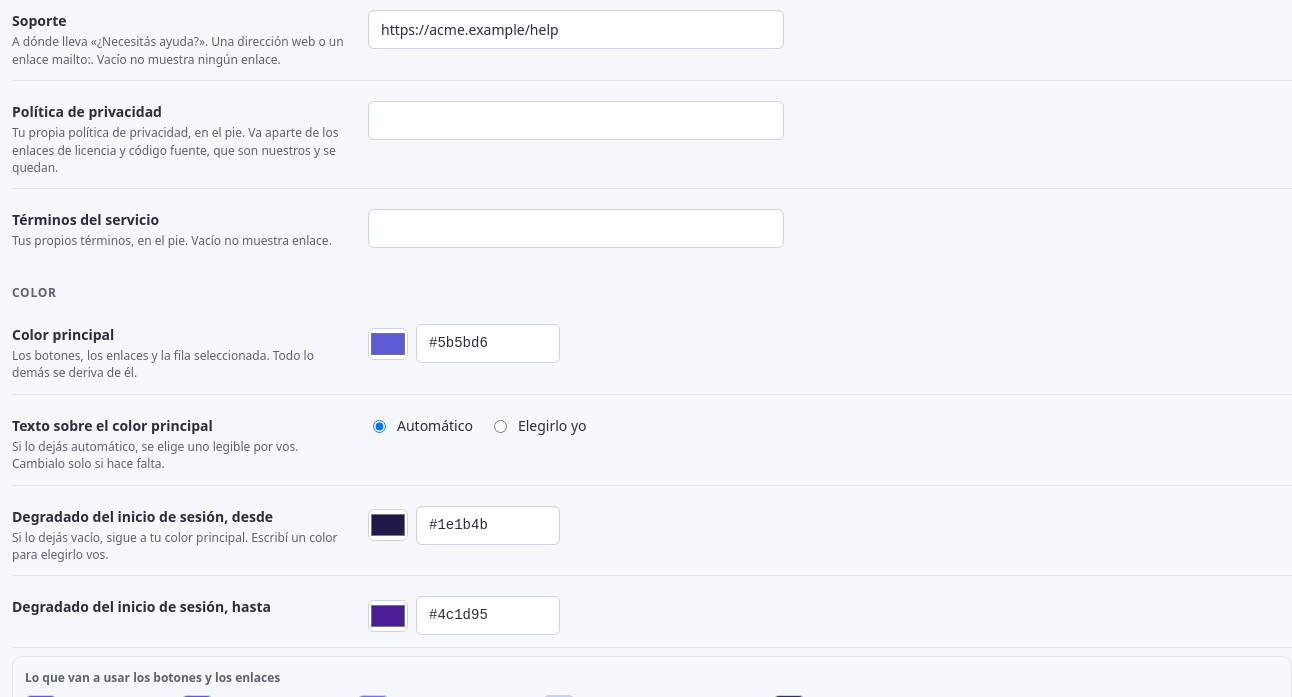
Test: the colour picker, and the preview that must not escape its box › derives the preview's variables from the TYPED colour, on the container
This screenshot has width=1292, height=697.
(page scrolled)
Step 1. Type "#ff0000" into the field named "Color principal, en hexadecimal" → (488, 344), box 416,324 -> 560,363
(page scrolled)
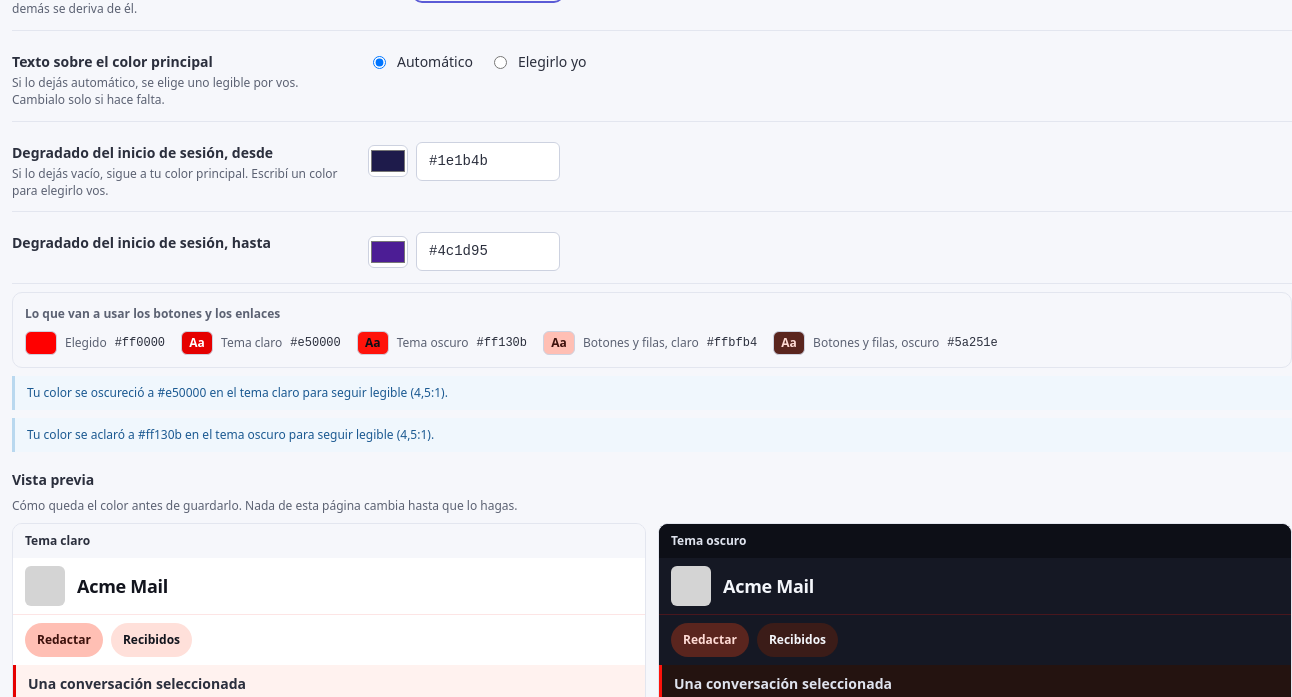
Expected: the text "#ff0000" is shown, 115,334 -> 165,352
